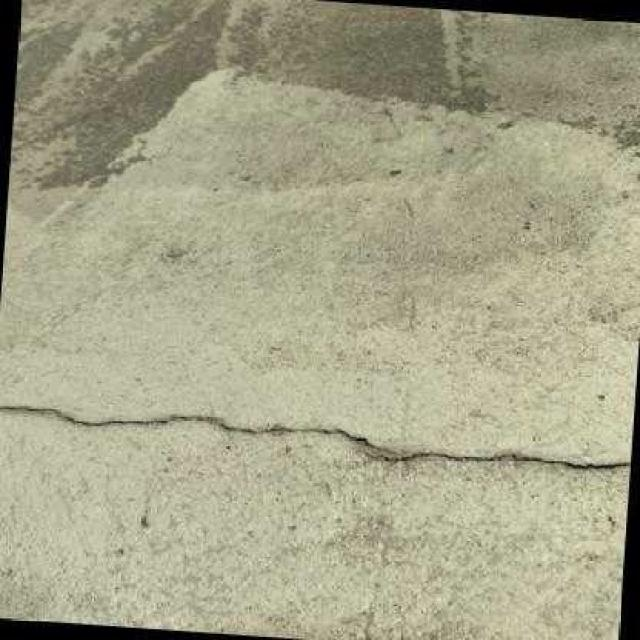D00: (0, 404, 394, 450), (374, 450, 631, 470)
